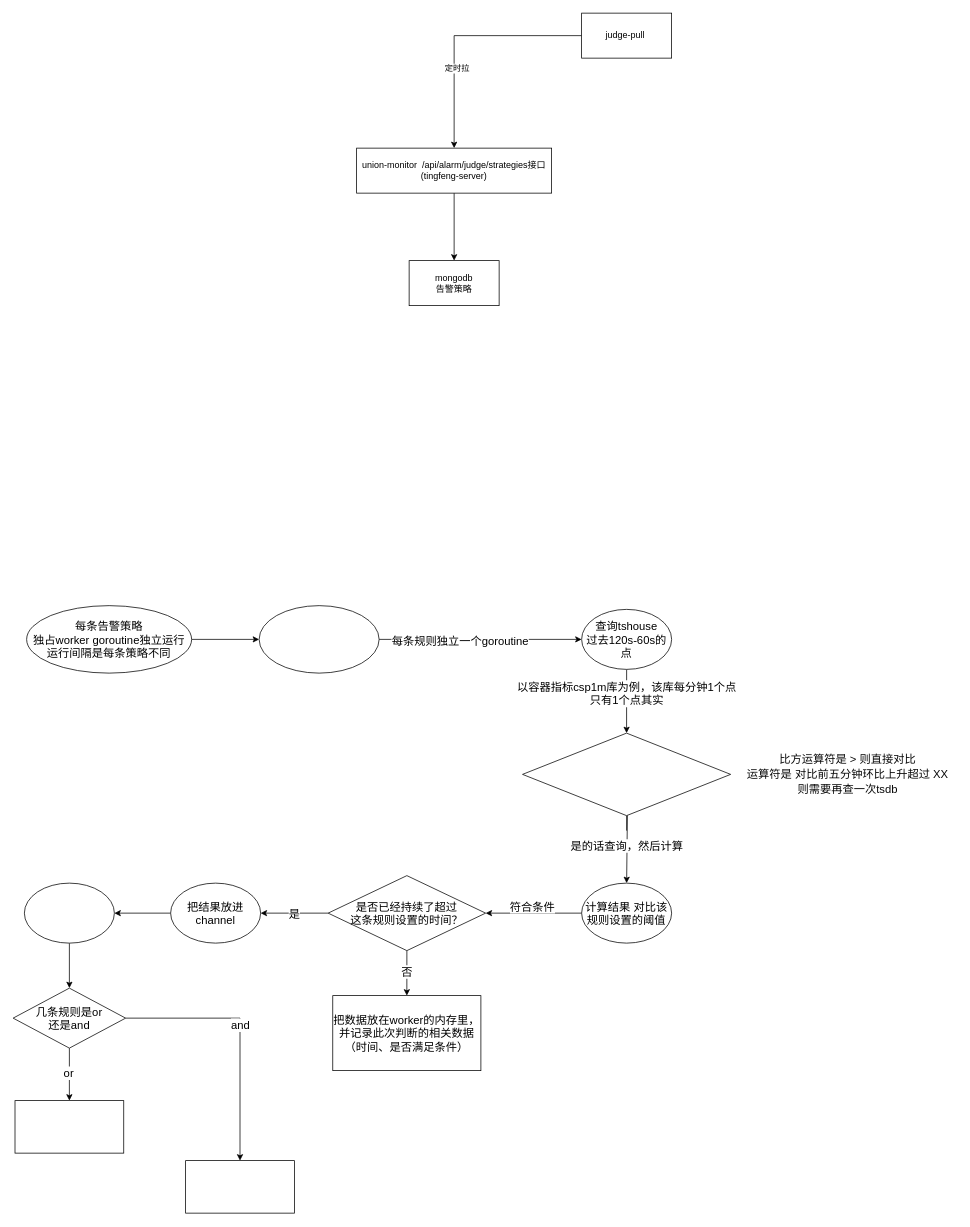
The diagram is 970 pixels wide and 1227 high, and some of its shapes have lost their labels. Here are the shapes that lost their labels. From the top down, the centre of each, then its label:
the point at 318,639: 2条规则 cpu利用率 > 60% or 磁盘使用率 > 70%
the point at 626,774: 规则有运算符 该运算符是否需要再查一次tsdb
the point at 69,912: 下游另外一个goroutine在接数据
the point at 69,1126: 省略很多逻辑 可以简单认为是发告警
the point at 239,1186: 等多条规则的goroutine运行完之后再看是不是全符合条件，是的话再告警
